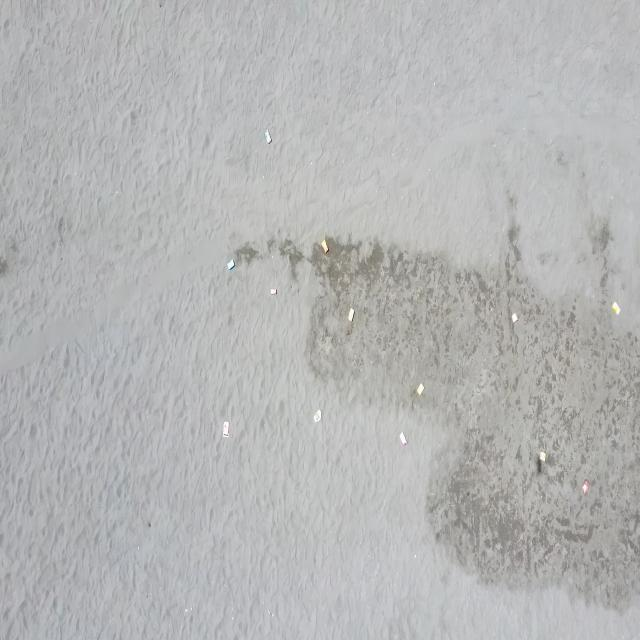Garbage: (536, 449, 544, 472), (415, 383, 424, 395), (264, 128, 271, 143), (612, 300, 620, 313), (226, 259, 235, 270), (582, 479, 588, 495), (313, 409, 320, 422), (320, 239, 327, 252), (223, 420, 228, 436), (347, 307, 353, 320), (539, 451, 546, 462), (400, 432, 406, 444), (512, 312, 516, 323), (270, 287, 276, 293)
